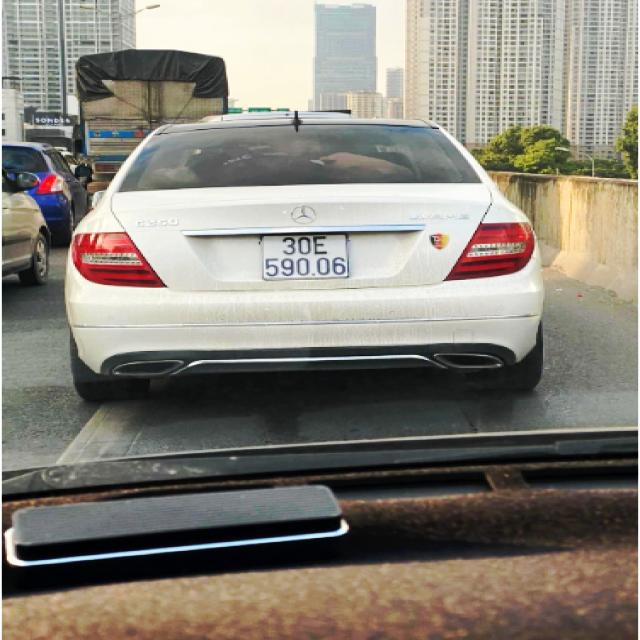license_plate: (261, 234, 351, 281)
